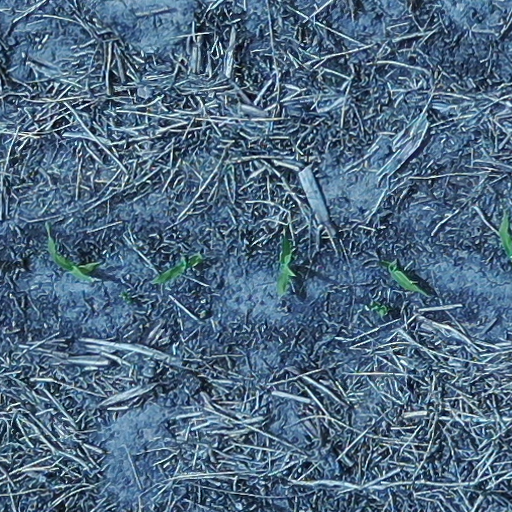planta: (49, 240, 99, 280), (378, 260, 426, 295), (153, 254, 201, 283), (277, 235, 297, 294)
